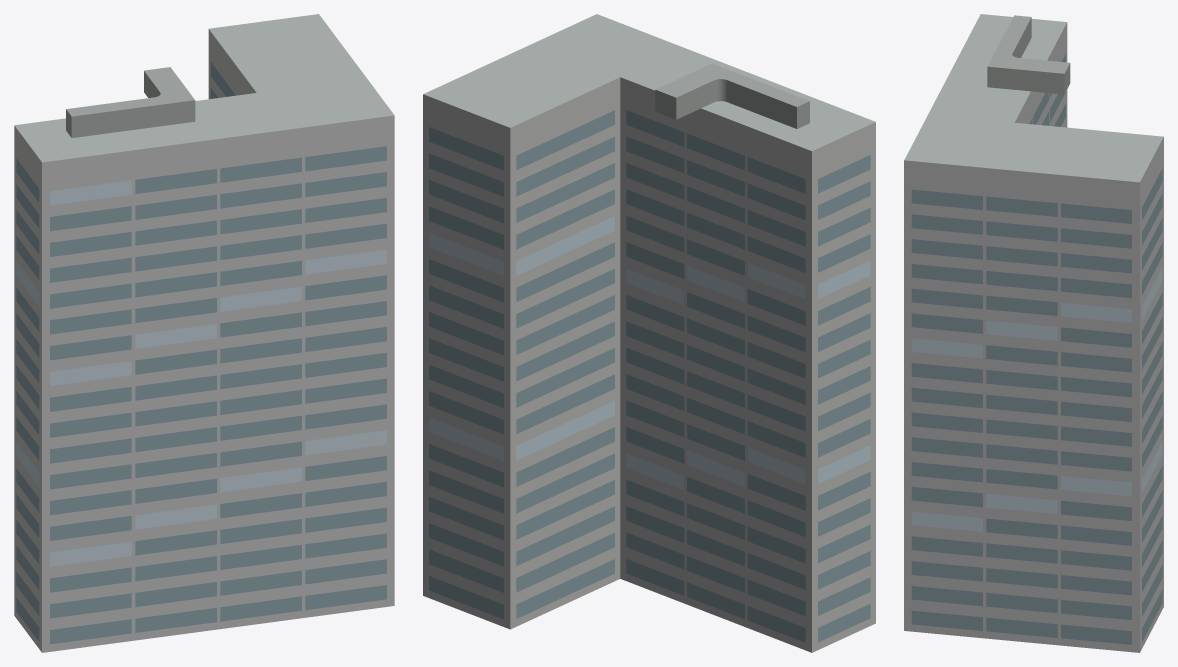
The model's file is apt-a10027951.glb.
3 renders of one model, left to right at view 1: azimuth 30°, elevation 25°; view 2: azimuth 150°, elevation 25°; view 3: azimuth 270°, elevation 25°, orthographic. The views are drawn at different scales.
Visible parts, largest first — view 1: apt-a10027951; view 2: apt-a10027951; view 3: apt-a10027951.
Boxes of the visible parts, bbox=[...] form: apt-a10027951: bbox=[14, 14, 394, 652]; apt-a10027951: bbox=[423, 14, 875, 652]; apt-a10027951: bbox=[904, 14, 1163, 652].
Bounding box in the file's own units: 41.91 × 57 × 27.31.
